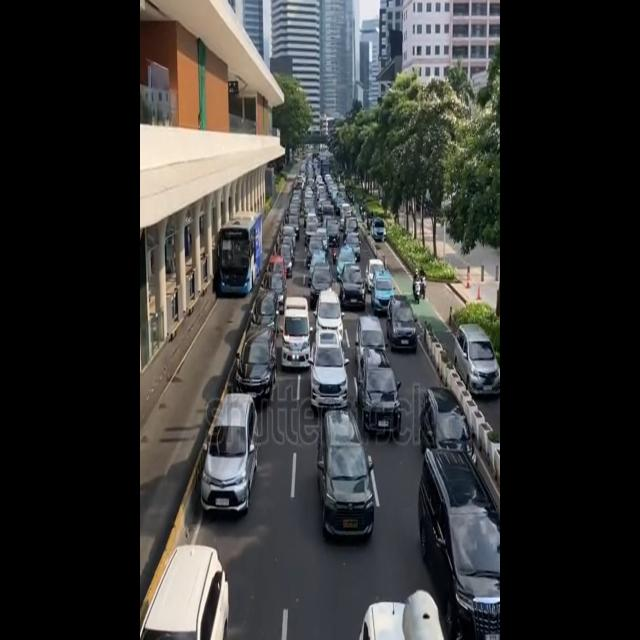Ambulance: (276, 292, 314, 383)
